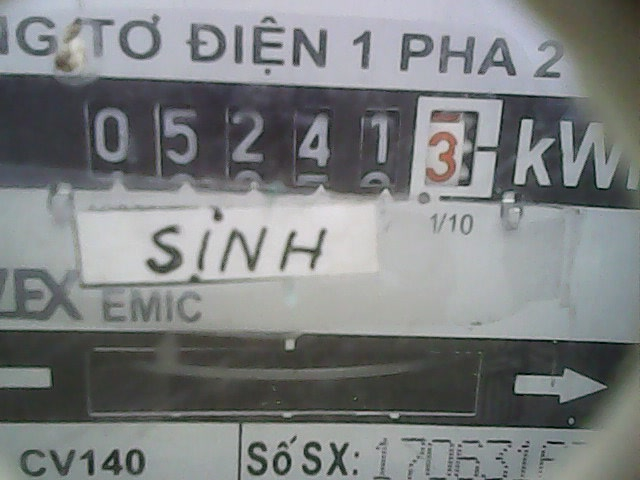phy_plate: (72, 80, 516, 210)
